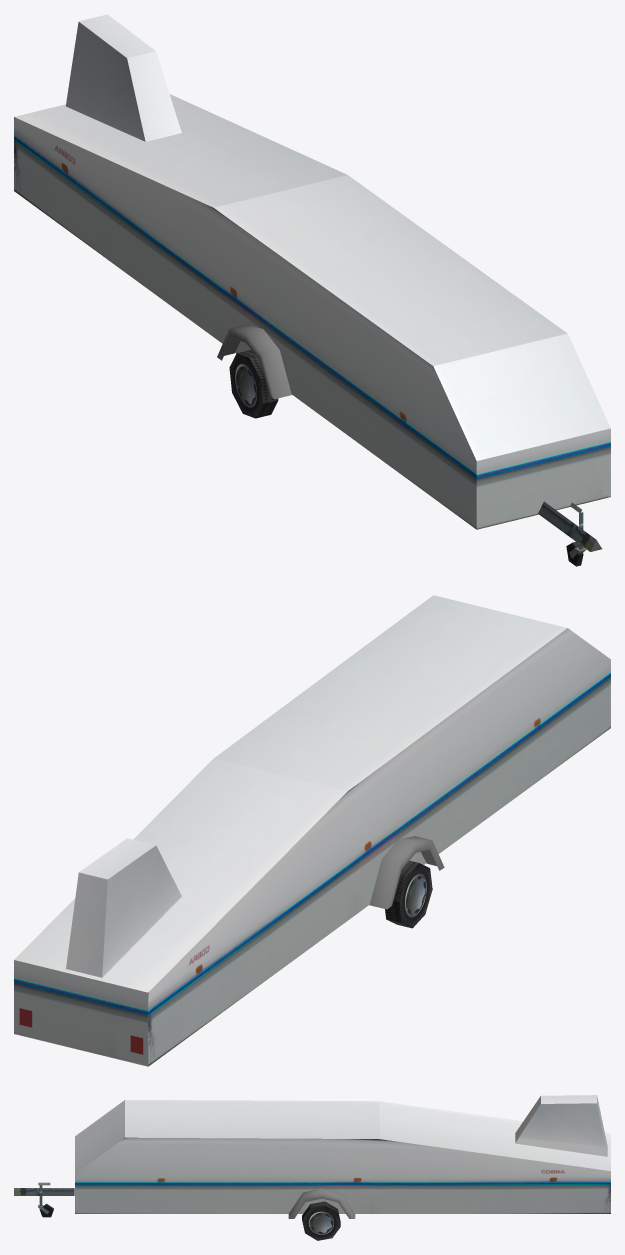
The model's file is glider-trailer-blue-9m-cbj_LOD02.gltf.
3 views of the same model, one above another, from view 1: azimuth 30°, elevation 25°; view 2: azimuth 150°, elevation 25°; view 3: azimuth 270°, elevation 25° (orthographic). The views are drawn at different scales.
Parts seen in each view (by area): view 1: trailer02; view 2: trailer02; view 3: trailer02.
Boxes of the visible parts, bbox=[...] form: trailer02: bbox=[14, 14, 610, 566]; trailer02: bbox=[14, 595, 610, 1066]; trailer02: bbox=[14, 1095, 610, 1240].
Size of the model in its own units: 1.71 by 1.96 by 9.
